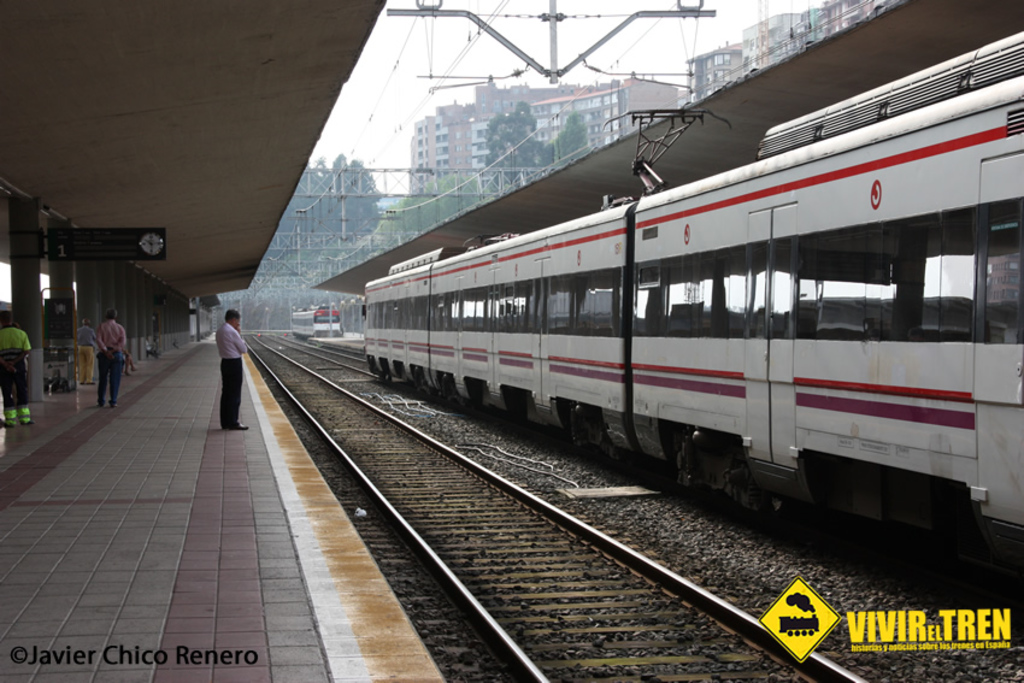train: (291, 308, 342, 343)
